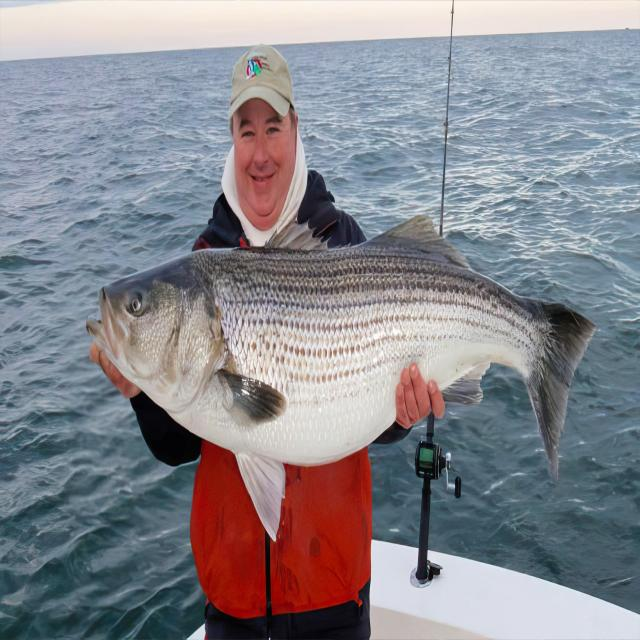Bass - Striped: (87, 216, 594, 534)
